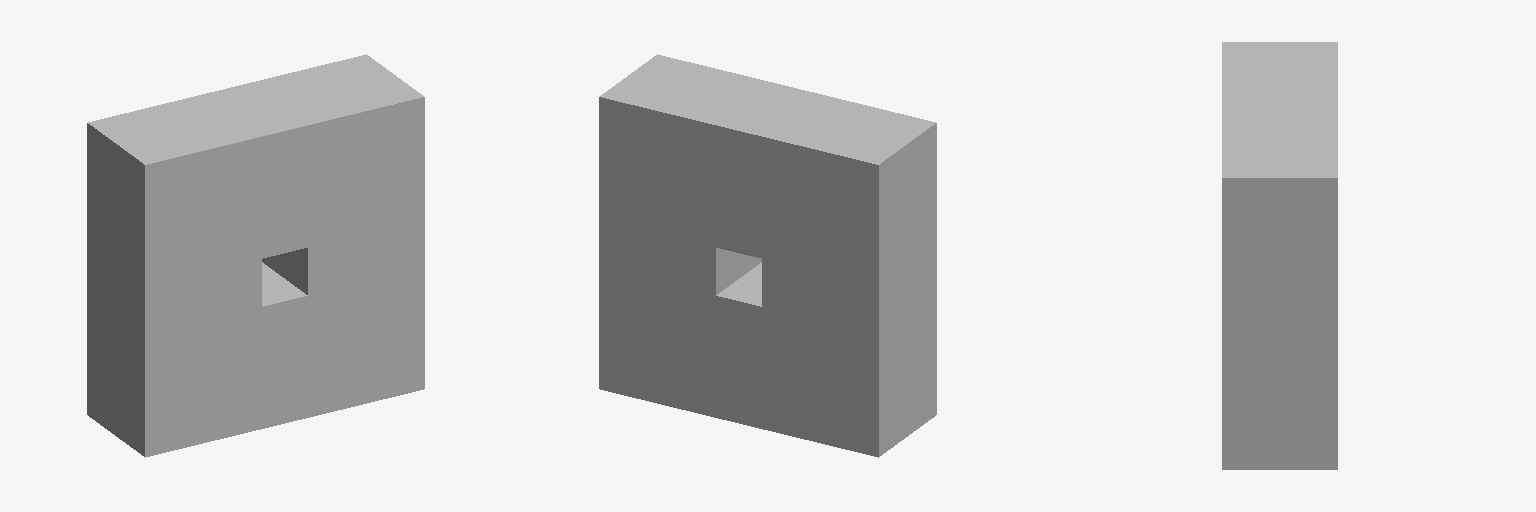
Rendered from factory_rectangular_hole_4mm_subdiv_3x.obj.
3 renders of one model, left to right at view 1: azimuth 30°, elevation 25°; view 2: azimuth 150°, elevation 25°; view 3: azimuth 270°, elevation 25°, orthographic.
Parts seen in each view (by area): view 1: mesh4, mesh2, mesh1, mesh6, mesh9; view 2: mesh5, mesh2, mesh1, mesh6, mesh9; view 3: mesh0, mesh1.
Part boxes in pixels (bbox=[...]): mesh4: bbox=[145, 97, 424, 457]; mesh2: bbox=[87, 123, 144, 456]; mesh1: bbox=[88, 54, 423, 164]; mesh6: bbox=[262, 248, 307, 294]; mesh9: bbox=[262, 262, 307, 306]; mesh5: bbox=[599, 97, 878, 457]; mesh2: bbox=[879, 123, 936, 456]; mesh1: bbox=[600, 54, 935, 164]; mesh6: bbox=[716, 248, 761, 294]; mesh9: bbox=[716, 262, 761, 306]; mesh0: bbox=[1222, 178, 1337, 469]; mesh1: bbox=[1222, 42, 1337, 177].
Size of the model in its own units: 0.025 by 0.025 by 0.009.